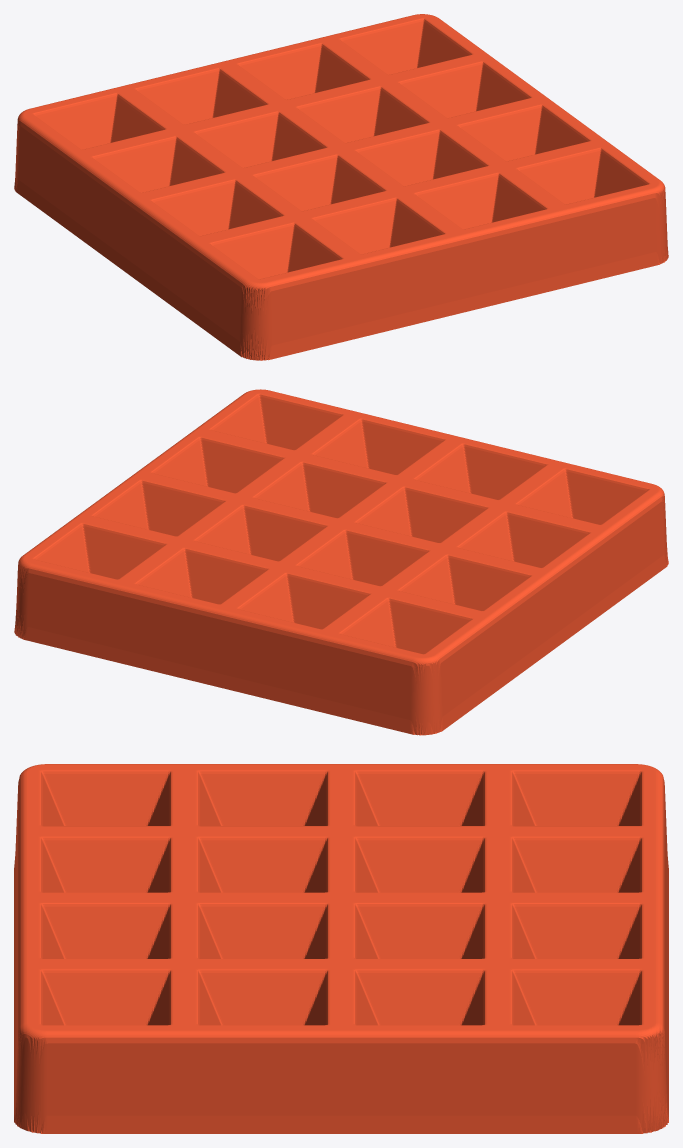
File: mold.glb
The picture shows the model from 3 angles, top to bottom: view 1: azimuth 30°, elevation 25°; view 2: azimuth 150°, elevation 25°; view 3: azimuth 270°, elevation 25°; orthographic projection. The views are drawn at different scales.
Visible parts, largest first — view 1: geometry_0; view 2: geometry_0; view 3: geometry_0.
Boxes of the visible parts, bbox=[...] form: geometry_0: bbox=[14, 14, 668, 360]; geometry_0: bbox=[14, 389, 668, 735]; geometry_0: bbox=[14, 764, 668, 1133].
Bounding box in the file's own units: 0.1815 × 0.0299 × 0.1815.
